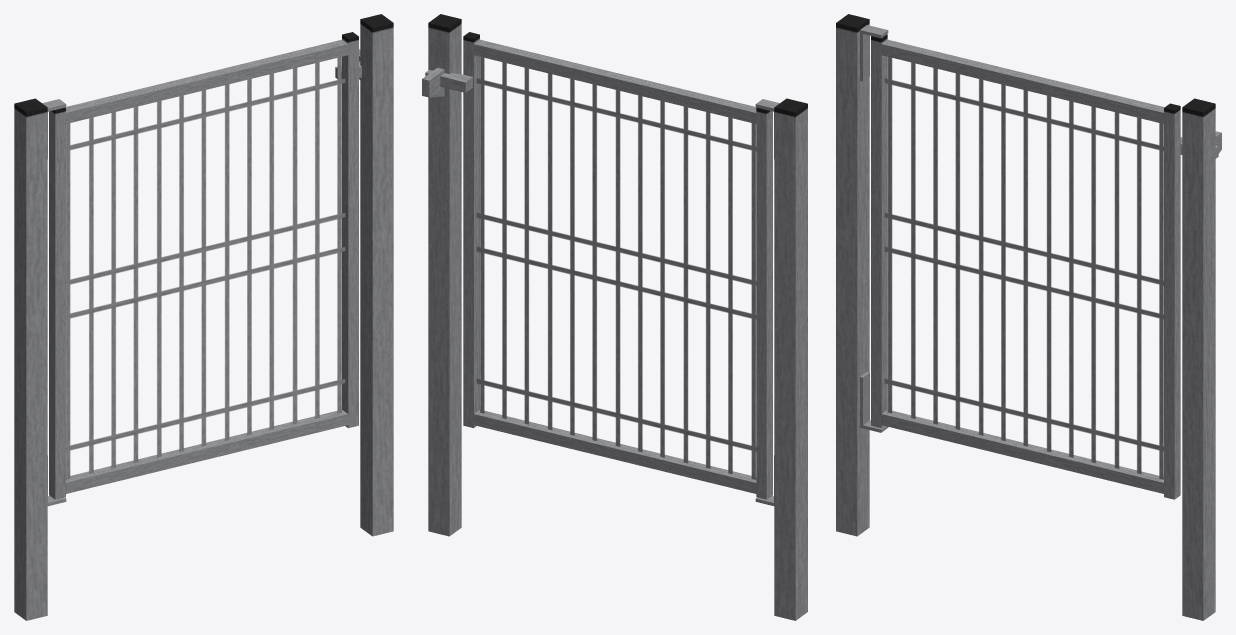
Rendered from fence-mesh-grey-gate-1m-cbj_LOD00.gltf.
3 views of the same model, side by side, from view 1: azimuth 30°, elevation 25°; view 2: azimuth 150°, elevation 25°; view 3: azimuth 330°, elevation 25° (orthographic).
Visible parts, largest first — view 1: post; view 2: post; view 3: post.
Boxes of the visible parts, x1=… form: post: x1=14, y1=14, x2=393, y2=620; post: x1=422, y1=14, x2=807, y2=620; post: x1=836, y1=14, x2=1221, y2=620.
Size of the model in its own units: 1.21 by 1.6 by 0.1573.
